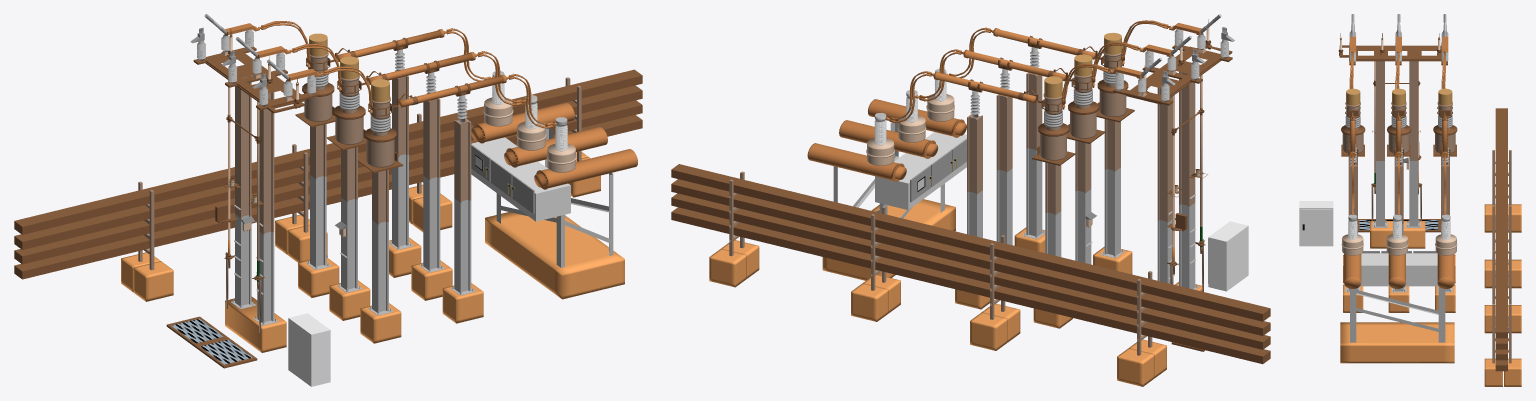
The model's file is ManiobraMediaTension.fbx.
The picture shows the model from 3 angles, left to right: view 1: azimuth 30°, elevation 25°; view 2: azimuth 150°, elevation 25°; view 3: azimuth 270°, elevation 25°; orthographic projection. The views are drawn at different scales.
Visible parts, largest first — view 1: Cube.022, Poste.003, Poste.002, Poste.001, Poste.005, Poste, Poste.006, Poste.007, Poste.004, Cube.005, Cube.010, Cube.024 (+19 smaller); view 2: Cube.022, Poste.003, Poste.001, Poste, Poste.005, Cube.010, Cube.005, Poste.007, Cube.026, Cube.023, Cube.024, Cube.025 (+15 smaller); view 3: Poste.003, Poste.002, Cube.022, Cube.005, Cube.010, Cube.026, Cube.024, Cube.025, Cube.023, Poste.005, Cylinder, Cylinder.006 (+19 smaller).
Boxes of the visible parts, left/top/right/bottom form: Cube.022: left=14, top=69, right=642, bottom=279; Poste.003: left=193, top=46, right=318, bottom=352; Poste.002: left=485, top=209, right=624, bottom=299; Poste.001: left=442, top=118, right=483, bottom=323; Poste.005: left=411, top=98, right=452, bottom=300; Poste: left=360, top=169, right=401, bottom=343; Poste.006: left=298, top=124, right=339, bottom=297; Poste.007: left=389, top=76, right=421, bottom=277; Poste.004: left=329, top=147, right=370, bottom=320; Cube.005: left=471, top=137, right=570, bottom=221; Cube.010: left=288, top=313, right=330, bottom=386; Cube.024: left=121, top=181, right=173, bottom=301; Cube.022: left=671, top=164, right=1270, bottom=364; Poste.003: left=1113, top=45, right=1232, bottom=291; Poste.001: left=1014, top=72, right=1045, bottom=252; Poste: left=1093, top=119, right=1132, bottom=274; Poste.005: left=996, top=94, right=1012, bottom=245; Cube.010: left=1208, top=221, right=1248, bottom=291; Cube.005: left=875, top=132, right=966, bottom=209; Poste.007: left=955, top=114, right=989, bottom=309; Cube.026: left=709, top=171, right=759, bottom=287; Cube.023: left=970, top=235, right=1020, bottom=350; Cube.024: left=1117, top=271, right=1166, bottom=386; Cube.025: left=851, top=206, right=900, bottom=321; Poste.003: left=1349, top=43, right=1447, bottom=248; Poste.002: left=1340, top=322, right=1454, bottom=363; Cube.022: left=1495, top=108, right=1507, bottom=371; Cube.005: left=1360, top=253, right=1438, bottom=286; Cube.010: left=1299, top=201, right=1333, bottom=246; Cube.026: left=1484, top=304, right=1521, bottom=386; Cube.024: left=1484, top=150, right=1521, bottom=232; Cube.025: left=1484, top=250, right=1521, bottom=333; Cube.023: left=1484, top=205, right=1521, bottom=288; Poste.005: left=1388, top=162, right=1409, bottom=312; Cylinder: left=1341, top=88, right=1365, bottom=153; Cylinder.006: left=1387, top=88, right=1411, bottom=153.
Size of what is drawn, in the model's own units: 15.87 by 7.41 by 6.67.
